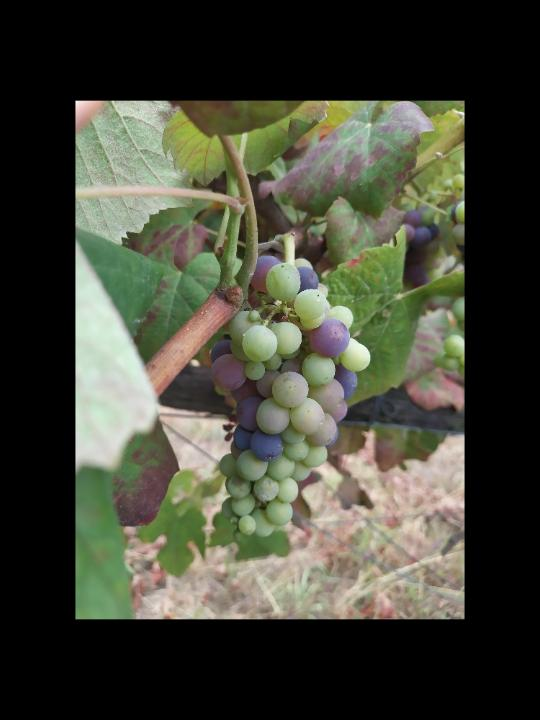grape: (208, 255, 374, 538)
